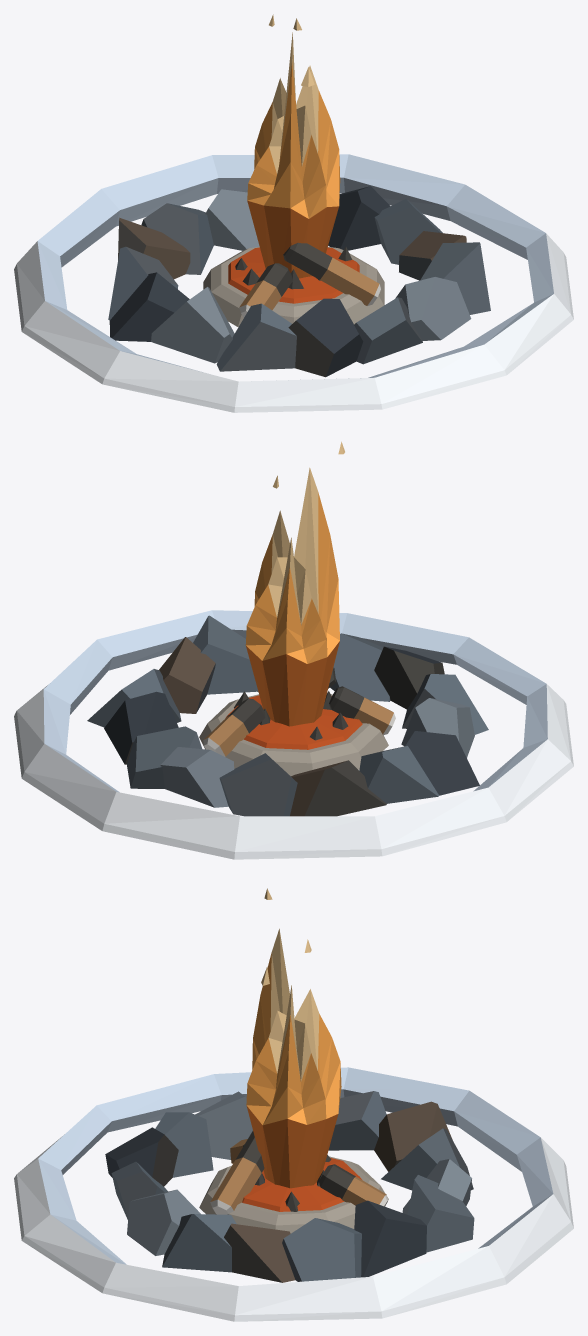
Rendered from Fogata_encendida.glb.
3 views of the same model, one above another, from view 1: azimuth 30°, elevation 25°; view 2: azimuth 150°, elevation 25°; view 3: azimuth 270°, elevation 25° (orthographic).
Visible parts, largest first — view 1: Fogata prendida; view 2: Fogata prendida; view 3: Fogata prendida.
Part boxes in pixels (<box>): Fogata prendida: <box>14,14,573,412</box>; Fogata prendida: <box>14,441,573,859</box>; Fogata prendida: <box>14,888,573,1321</box>.
Bounding box in the file's own units: 0.6548 × 0.3853 × 0.6548.
